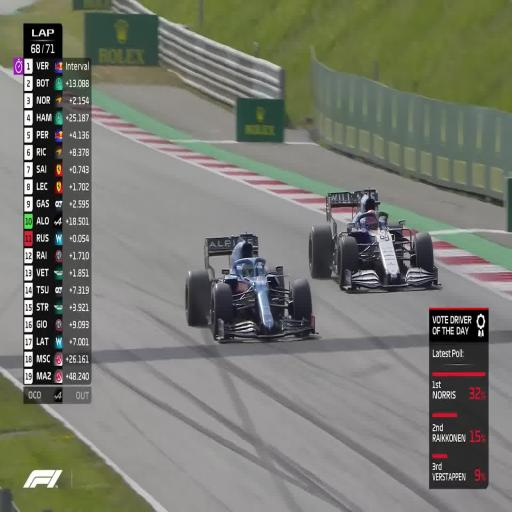f1_car: (185, 233, 315, 340), (308, 189, 439, 289)
